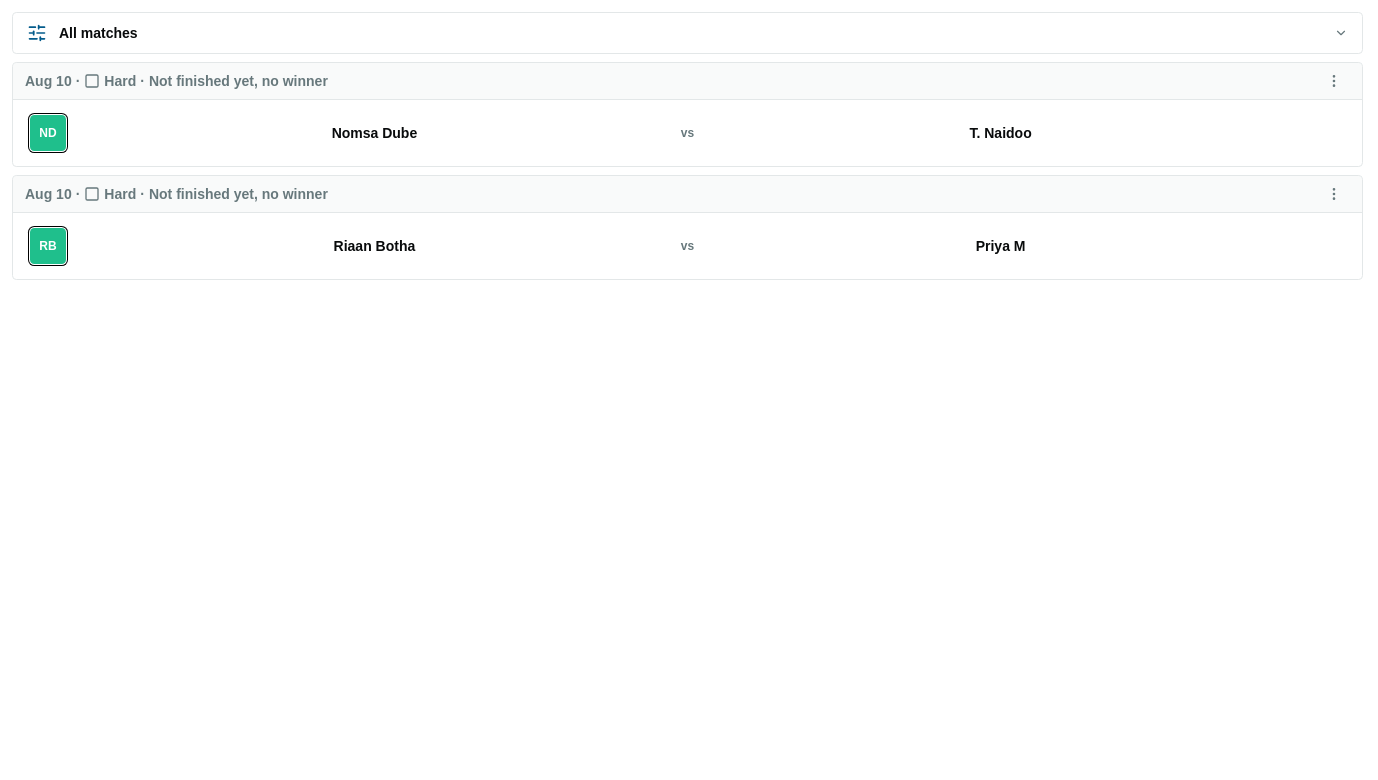
Scenario: filters by which of the coach's players played the match
Expected: the text "T. Naidoo" is shown, [970, 123, 1032, 143]
Step 1. Click the button "All matches" → (98, 33), box [12, 12, 1363, 54]
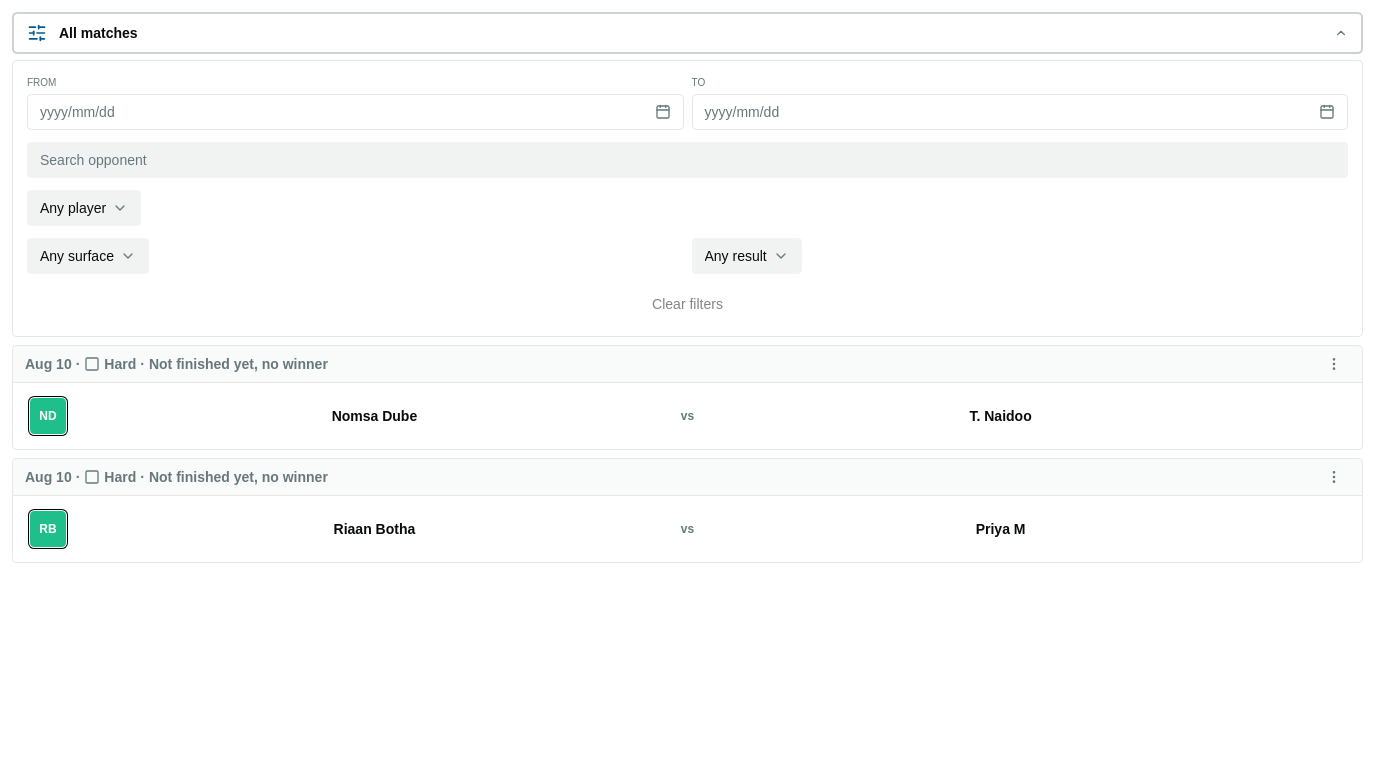
Step 2. Click the dropdown labelled "player" → (84, 208), box [27, 190, 141, 226]
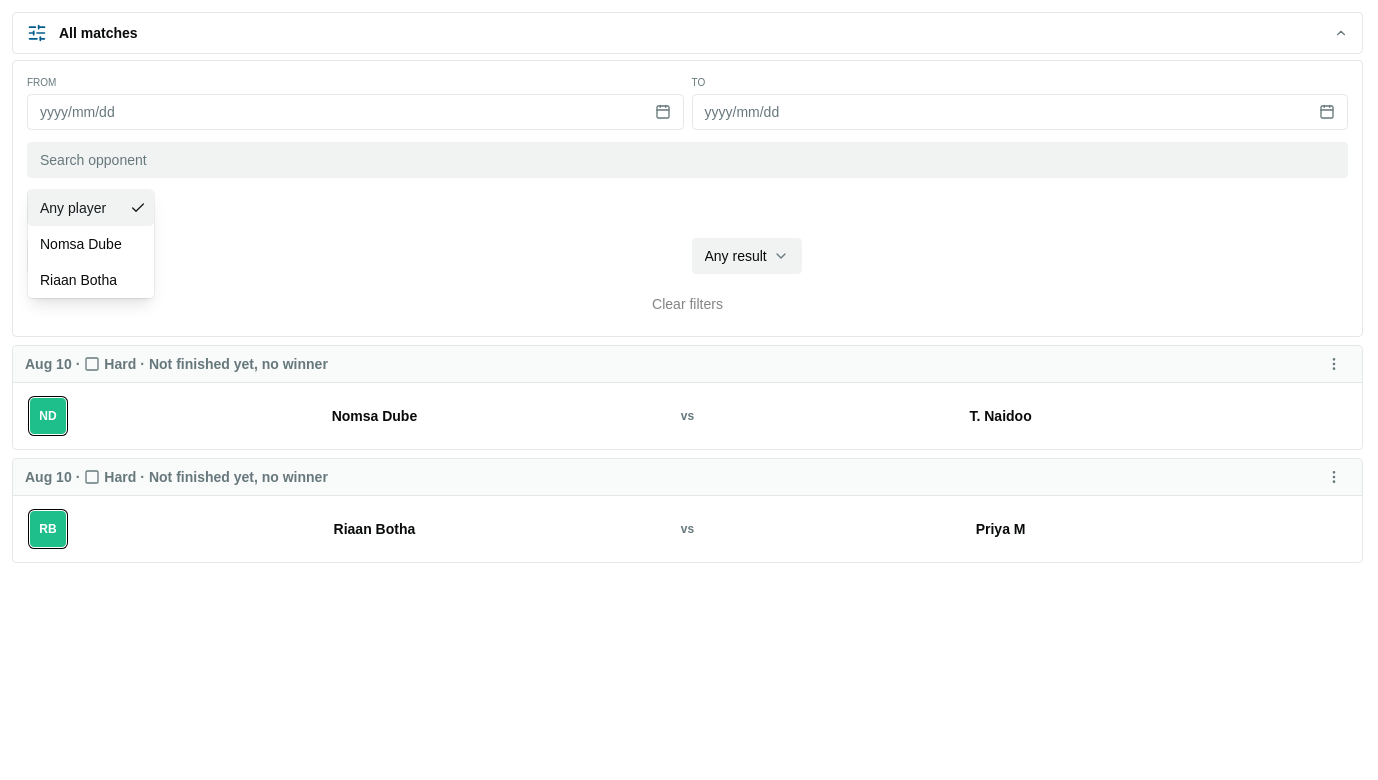
Step 3. Click the option "Riaan Botha" → (79, 280), box [40, 272, 117, 288]
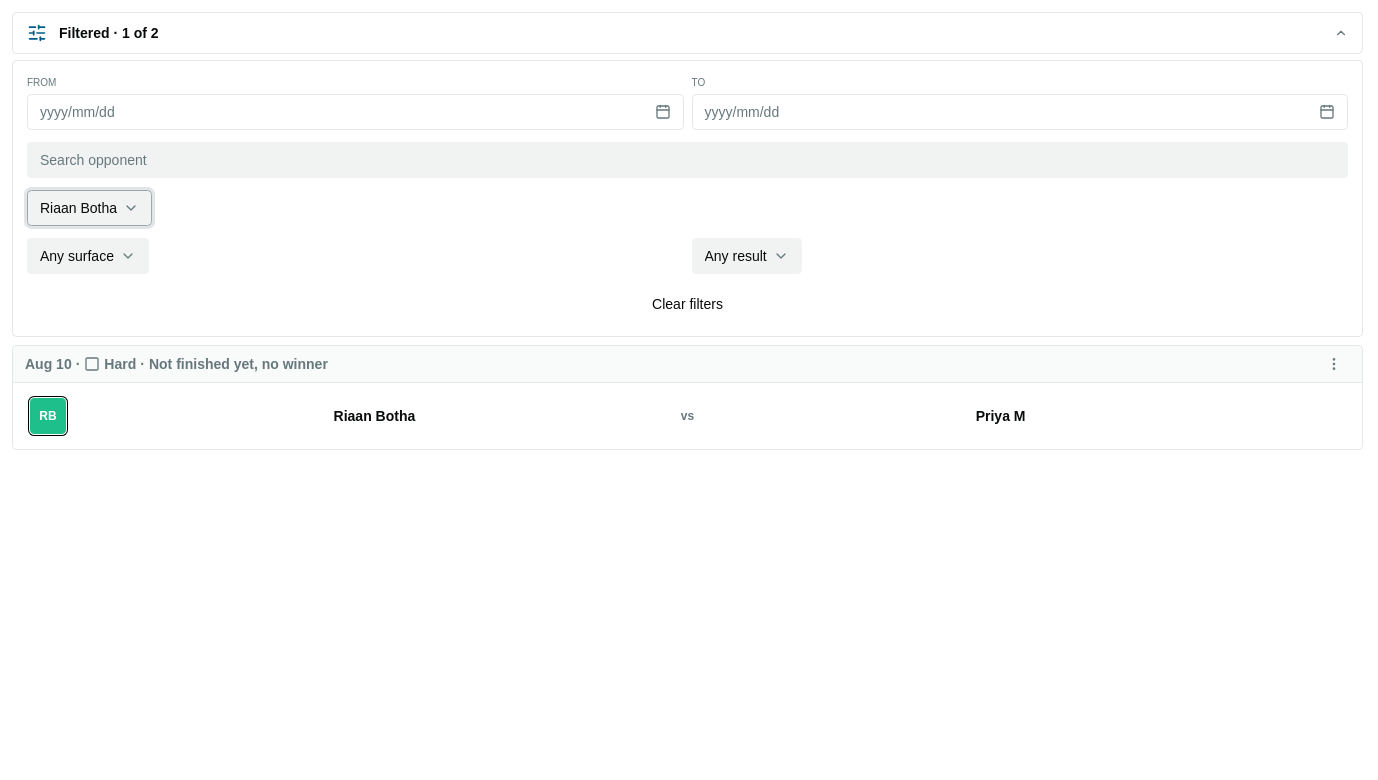
Expected: the text "Priya M" is shown, [976, 406, 1026, 426]
Result: the link "T. Naidoo" is gone
